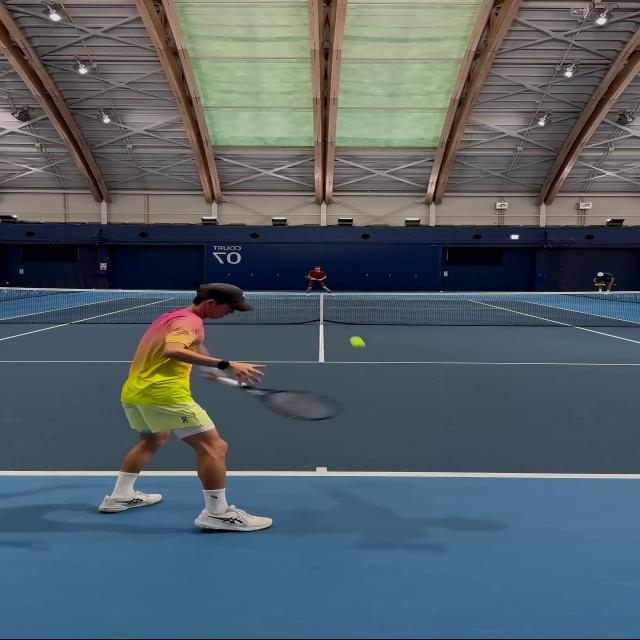tennis_ball: (352, 338, 361, 345)
